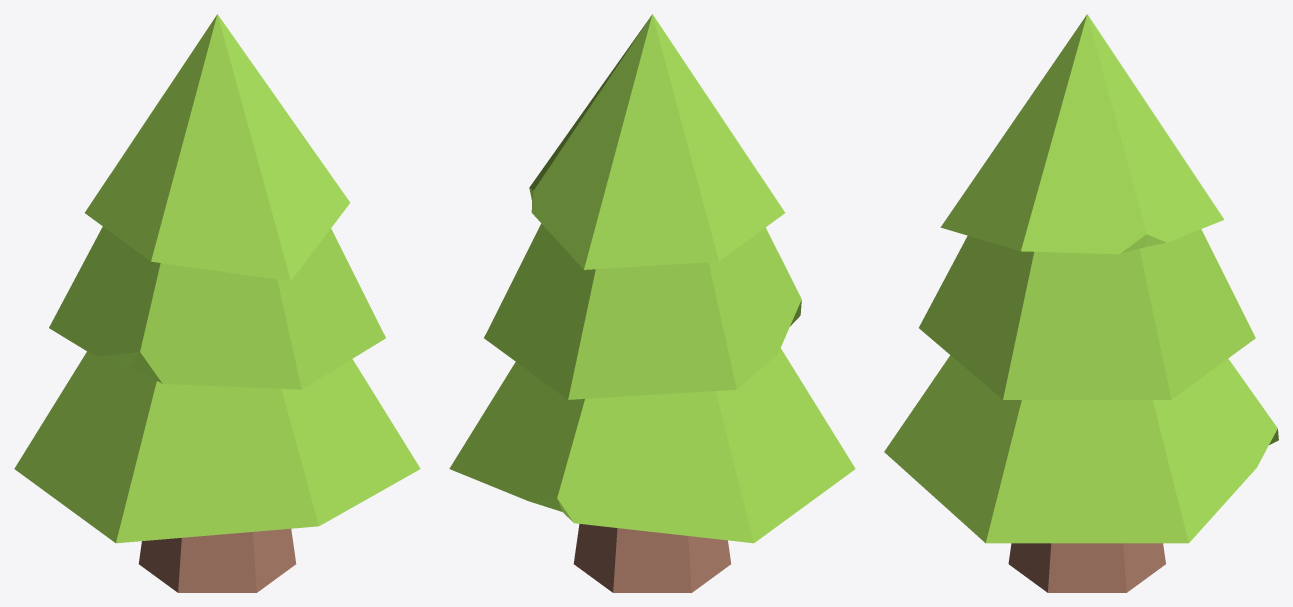
Rendered from Tree.glb.
The picture shows the model from 3 angles, left to right: view 1: azimuth 30°, elevation 25°; view 2: azimuth 150°, elevation 25°; view 3: azimuth 270°, elevation 25°; orthographic projection.
Visible parts, largest first — view 1: Tree_Cylinder; view 2: Tree_Cylinder; view 3: Tree_Cylinder.
Part boxes in pixels (x1=…): Tree_Cylinder: x1=14, y1=14, x2=420, y2=592; Tree_Cylinder: x1=449, y1=14, x2=855, y2=592; Tree_Cylinder: x1=884, y1=14, x2=1278, y2=592.
Bounding box in the file's own units: 0.3241 × 0.5589 × 0.3636.
